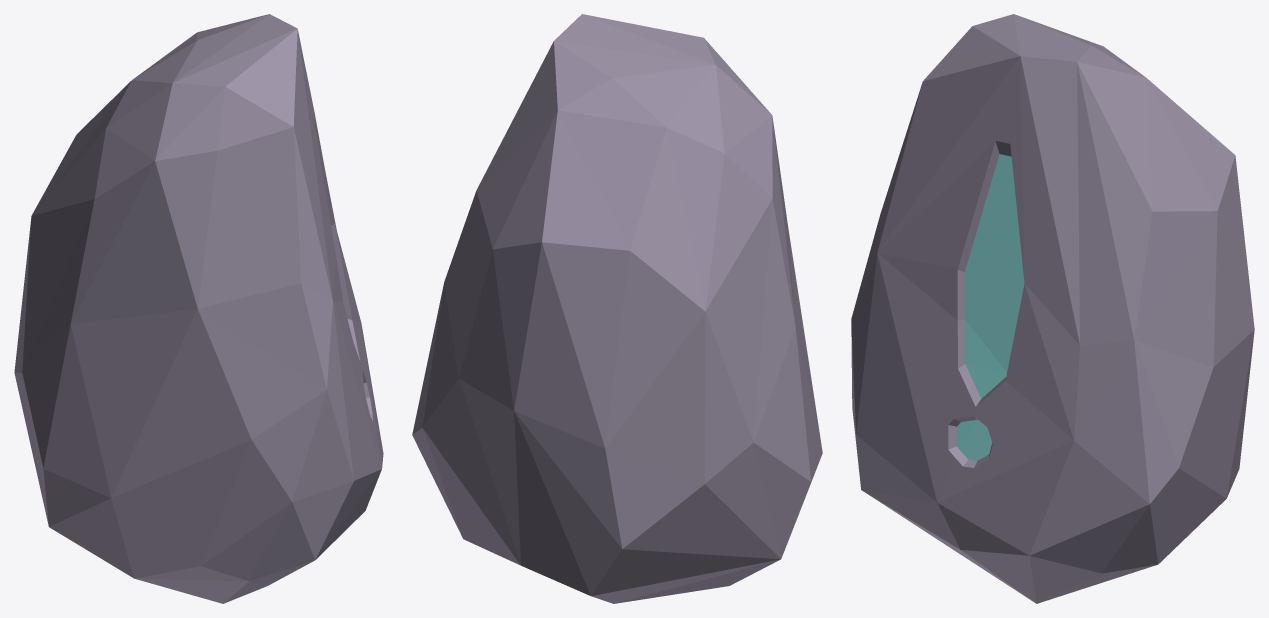
File: MysteryStone.fbx
3 renders of one model, left to right at view 1: azimuth 30°, elevation 25°; view 2: azimuth 150°, elevation 25°; view 3: azimuth 270°, elevation 25°, orthographic.
Visible parts, largest first — view 1: Icosphere; view 2: Icosphere; view 3: Icosphere.
Part boxes in pixels (bbox=[...]): Icosphere: bbox=[14, 14, 383, 603]; Icosphere: bbox=[412, 14, 822, 603]; Icosphere: bbox=[851, 14, 1254, 603].
Bounding box in the file's own units: 101 × 155 × 101.
